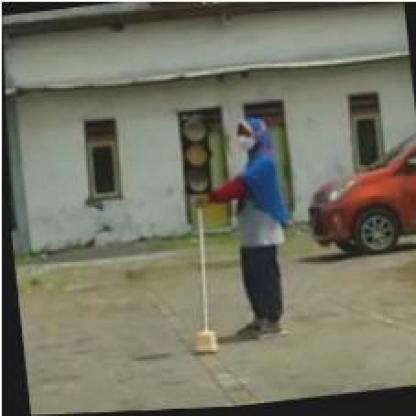yellow: (175, 114, 214, 198)
